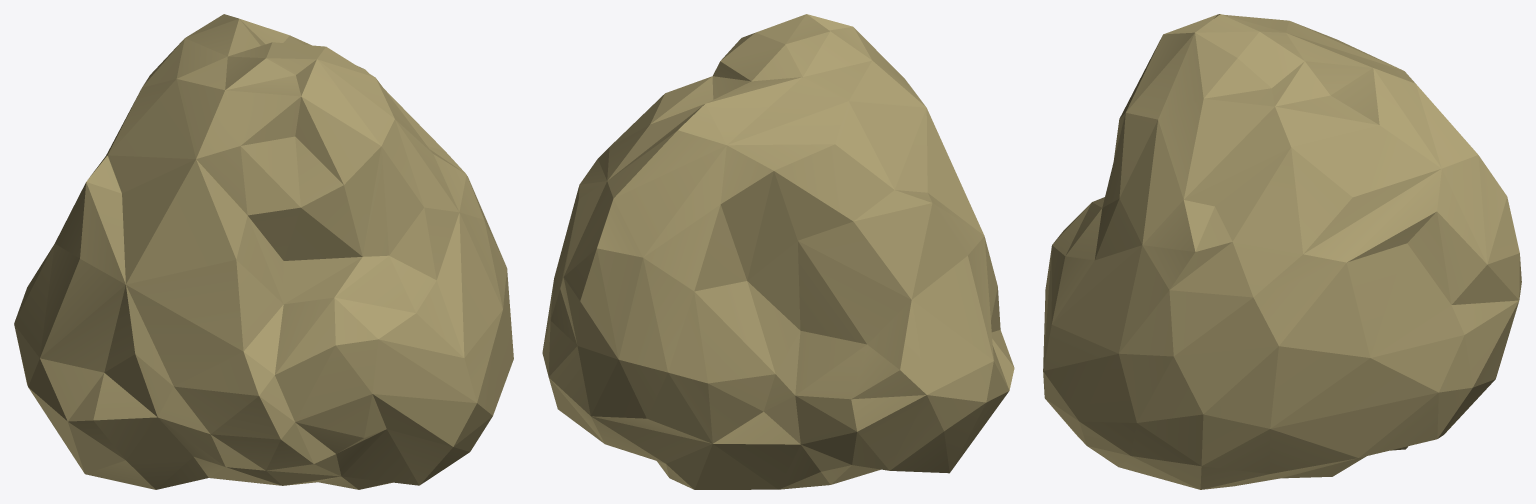
The model's file is SM_rock_30.fbx.
The picture shows the model from 3 angles, left to right: view 1: azimuth 30°, elevation 25°; view 2: azimuth 150°, elevation 25°; view 3: azimuth 270°, elevation 25°; orthographic projection. The views are drawn at different scales.
Visible parts, largest first — view 1: rock_30; view 2: rock_30; view 3: rock_30.
Part boxes in pixels (bbox=[...]): rock_30: bbox=[14, 14, 513, 489]; rock_30: bbox=[542, 14, 1014, 489]; rock_30: bbox=[1043, 14, 1521, 489].
Size of the model in its own units: 151 by 143 by 148.
